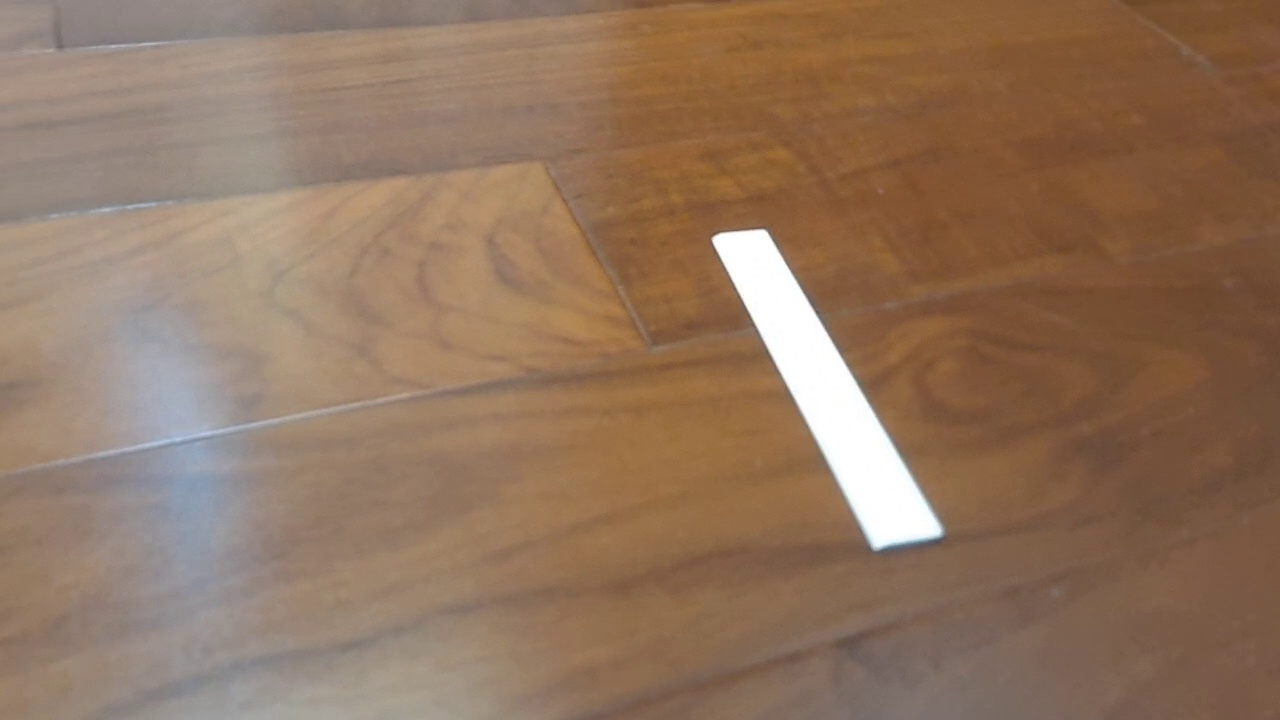ruler: (708, 226, 947, 555)
